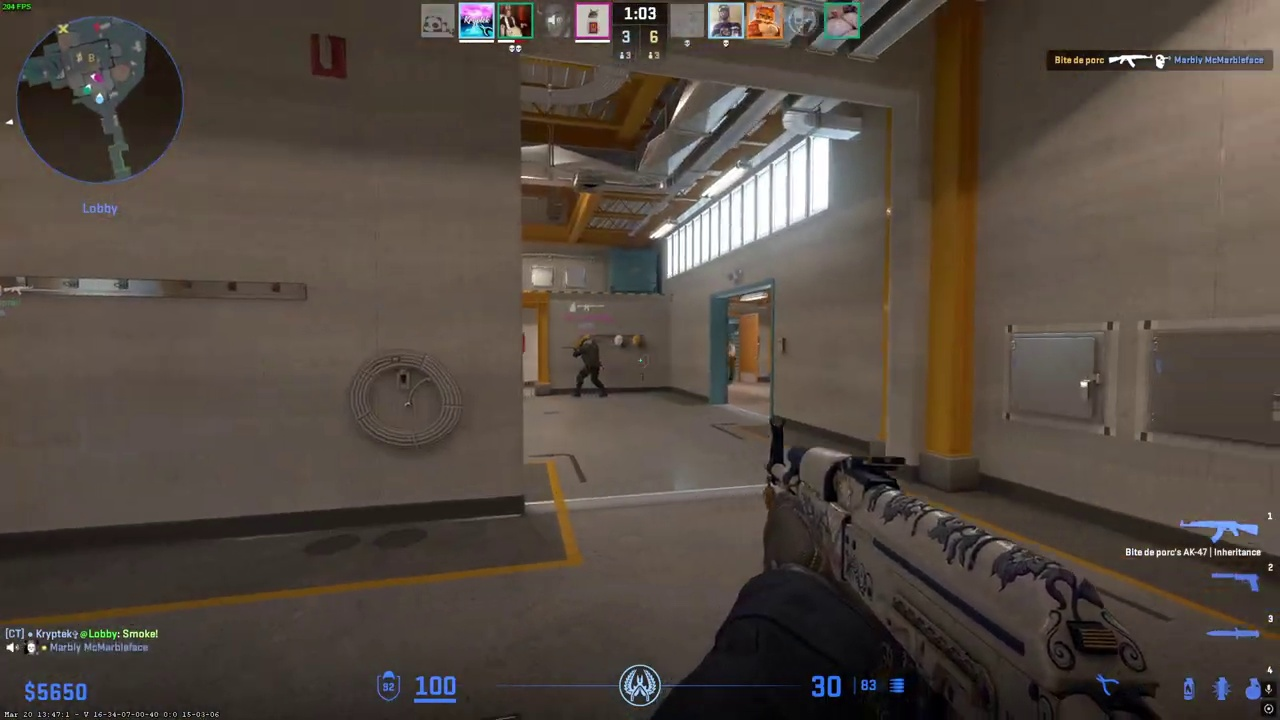CT: (572, 337, 606, 397)
